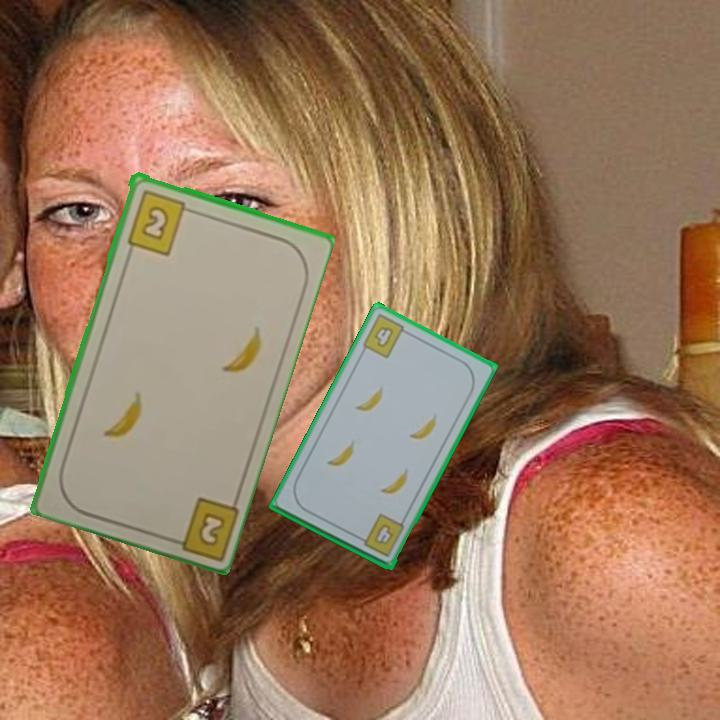2b: (123, 186, 197, 258), (162, 493, 240, 560)
4b: (359, 310, 413, 361), (354, 510, 407, 559)
